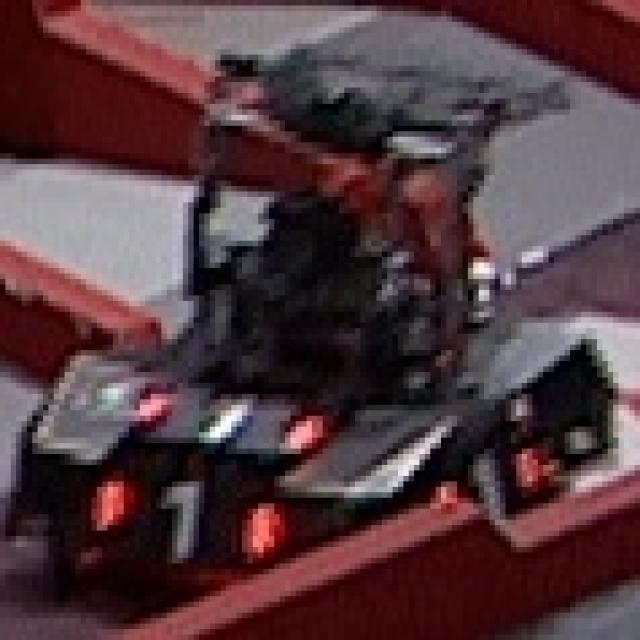R1: (67, 451, 293, 577), (94, 369, 342, 452), (422, 424, 568, 522)
